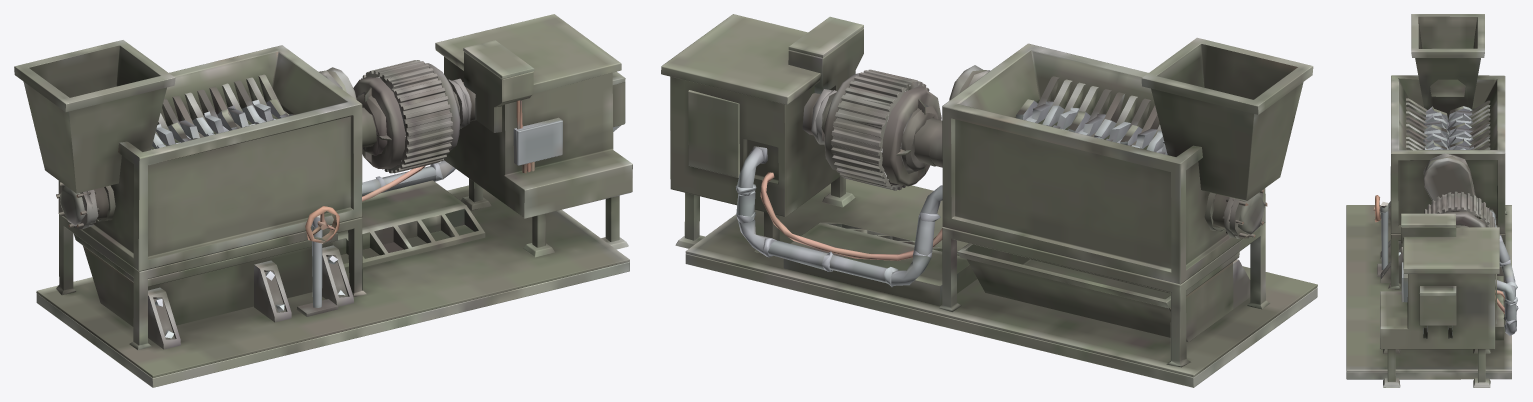
File: StorageBox_IndustrialGrinder_C.glb
3 views of the same model, side by side, from view 1: azimuth 30°, elevation 25°; view 2: azimuth 150°, elevation 25°; view 3: azimuth 270°, elevation 25° (orthographic). The views are drawn at different scales.
Parts seen in each view (by area): view 1: SM_Grinder; view 2: SM_Grinder; view 3: SM_Grinder.
Boxes of the visible parts, <box> form: SM_Grinder: <box>14,14,632,387</box>; SM_Grinder: <box>661,14,1317,387</box>; SM_Grinder: <box>1346,14,1518,387</box>.
Size of the model in its own units: 7.19 by 3.17 by 2.66.
1 material, 1 textured.
